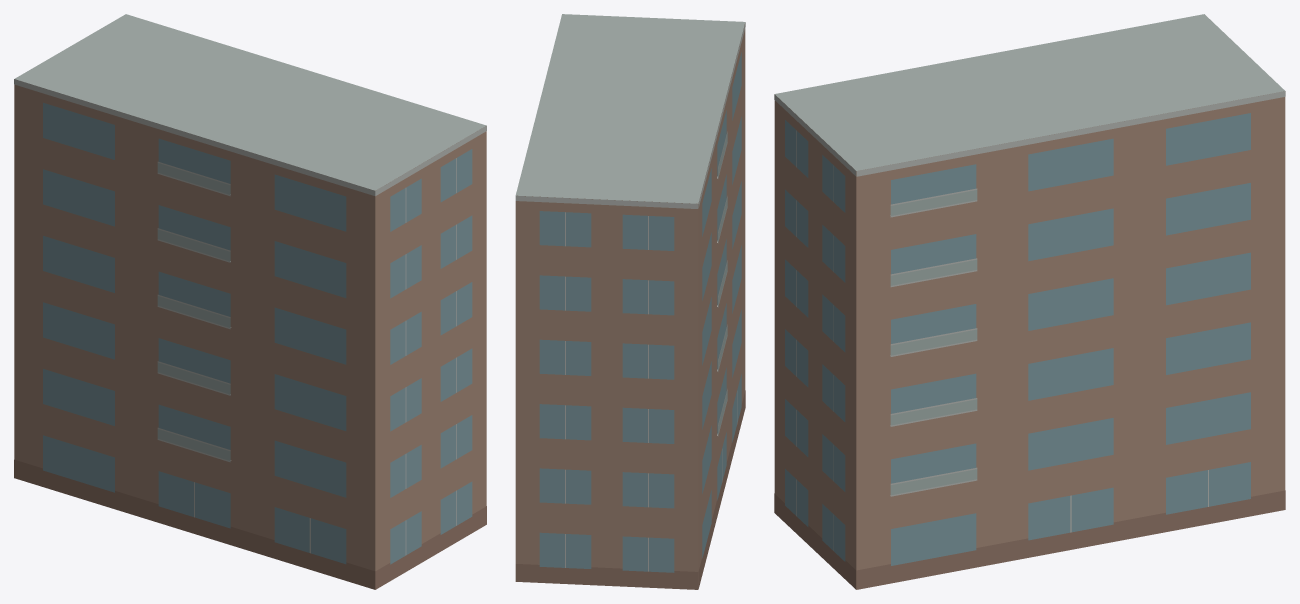
Rendered from survey-upis-32635413.glb.
3 views of the same model, side by side, from view 1: azimuth 30°, elevation 25°; view 2: azimuth 150°, elevation 25°; view 3: azimuth 270°, elevation 25° (orthographic). The views are drawn at different scales.
Parts seen in each view (by area): view 1: survey-upis-32635413.tmp; view 2: survey-upis-32635413.tmp; view 3: survey-upis-32635413.tmp.
Part boxes in pixels (<box>): survey-upis-32635413.tmp: <box>14,14,486,589</box>; survey-upis-32635413.tmp: <box>515,14,745,589</box>; survey-upis-32635413.tmp: <box>774,14,1285,589</box>.
Size of the model in its own units: 14.25 by 17.7 by 19.58.
